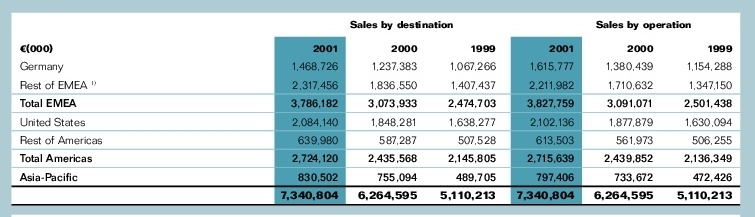table: (0, 0, 755, 217)
